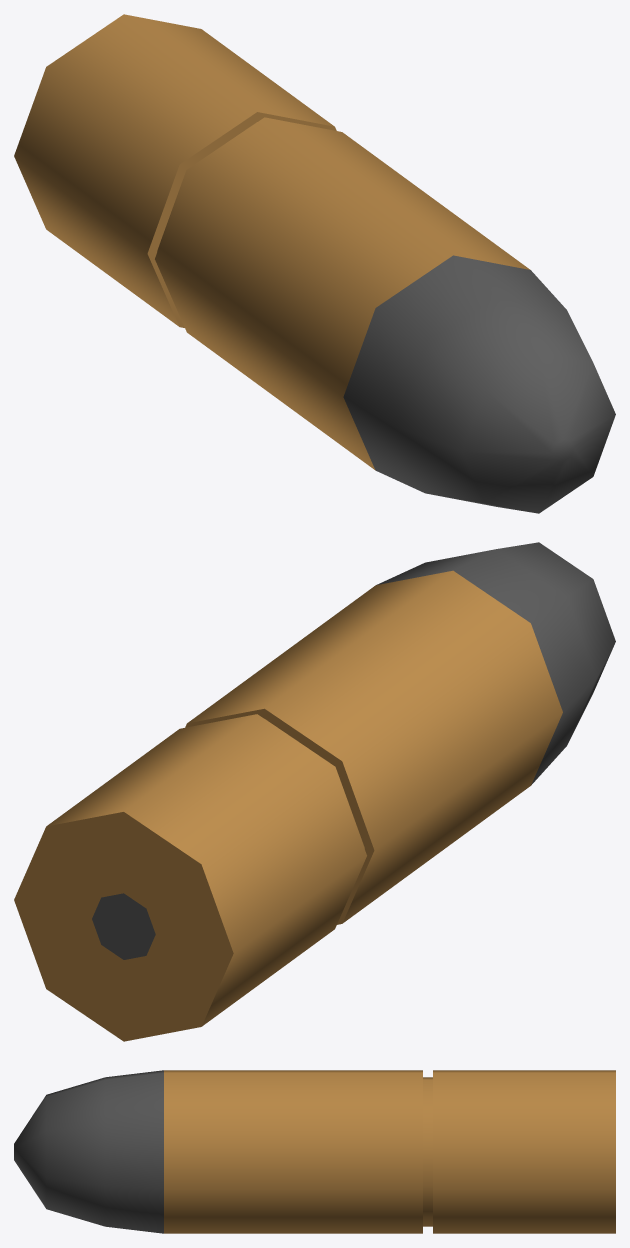
Rendered from Revolver Bullet.fbx.
The picture shows the model from 3 angles, top to bottom: view 1: azimuth 30°, elevation 25°; view 2: azimuth 150°, elevation 25°; view 3: azimuth 270°, elevation 25°; orthographic projection. The views are drawn at different scales.
Parts seen in each view (by area): view 1: Revolver Bullet; view 2: Revolver Bullet; view 3: Revolver Bullet.
Part boxes in pixels (x1,y1,x2,y2): Revolver Bullet: (14, 14, 615, 513); Revolver Bullet: (14, 542, 615, 1041); Revolver Bullet: (14, 1070, 615, 1233).
Bounding box in the file's own units: 2.73 × 2.73 × 9.44.
